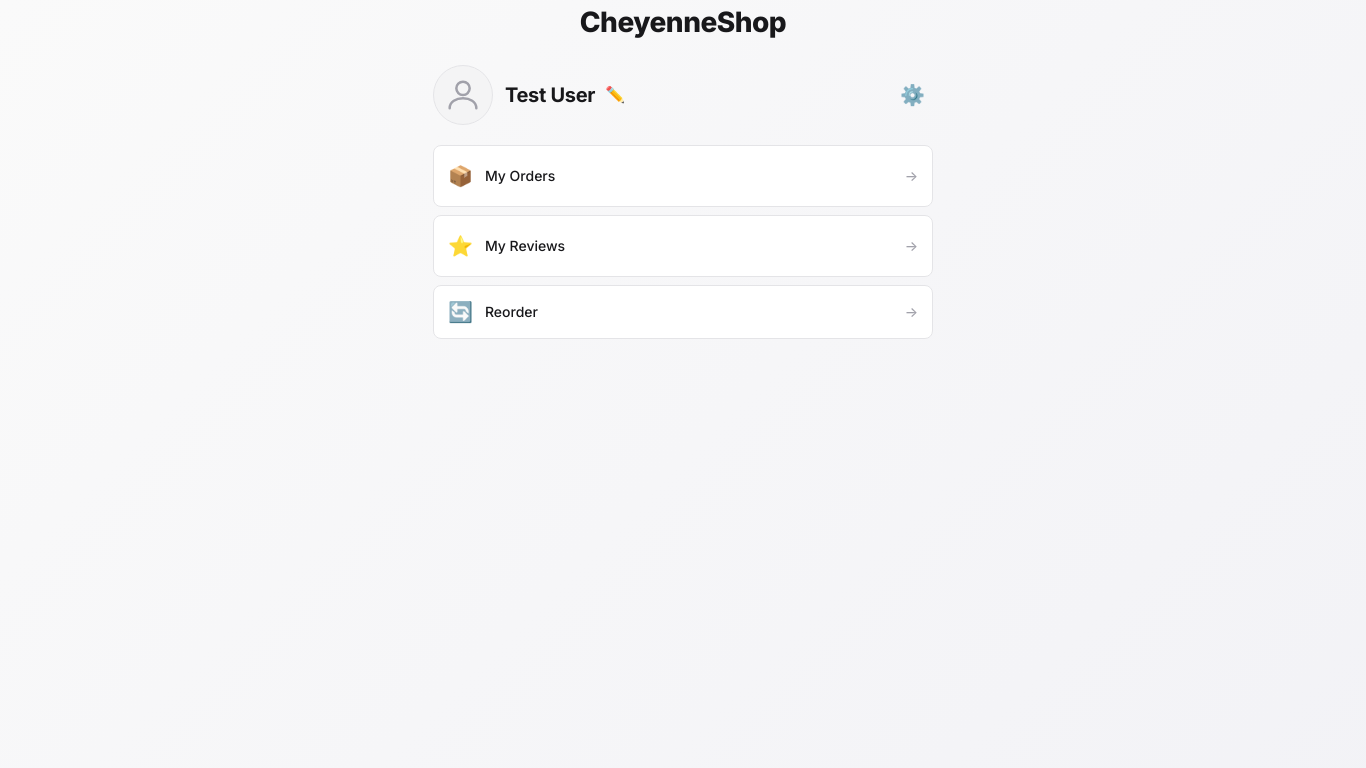
Test: Profile › Edit Modal › should close modal when cancel clicked
This screenshot has width=1366, height=768.
Click the button "✏️": (615,95) left=601, top=81, right=629, bottom=108
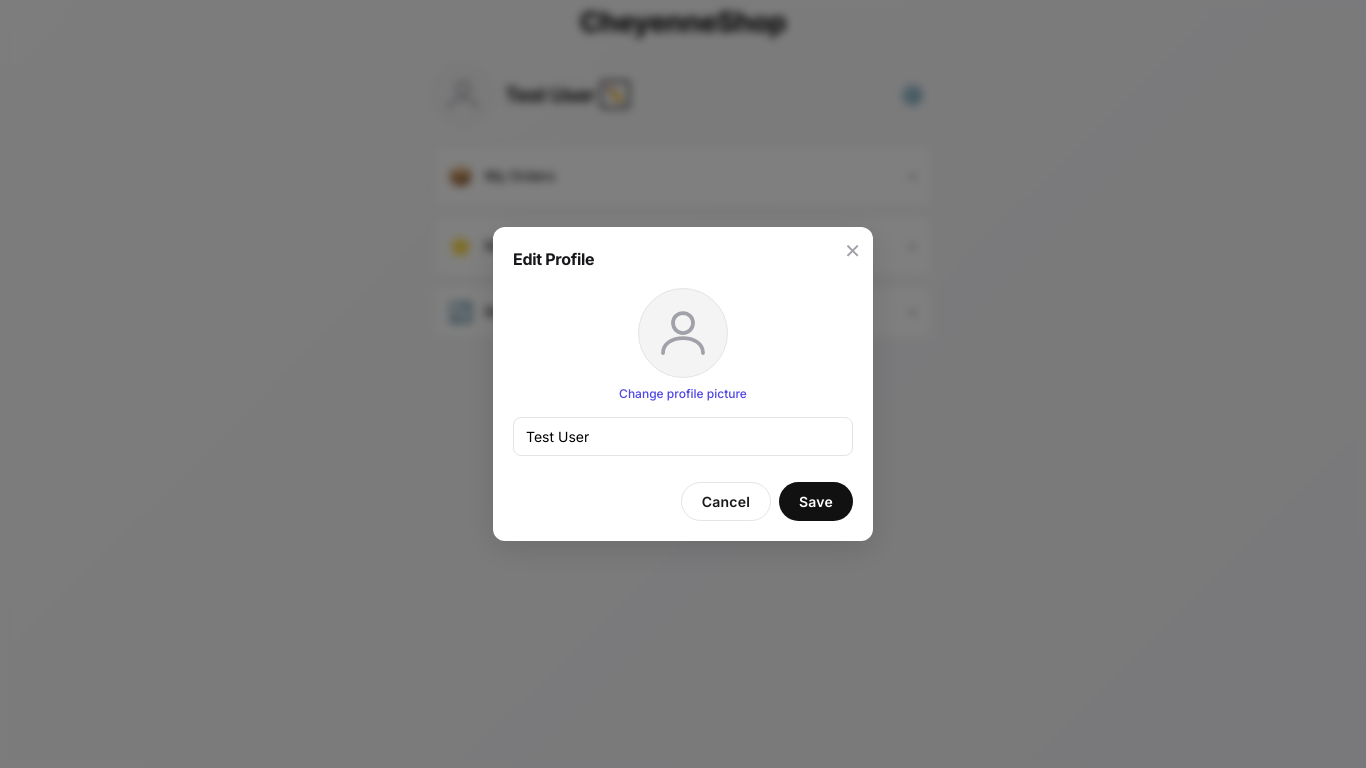
Click the button "Cancel": (726,502) left=681, top=482, right=771, bottom=521
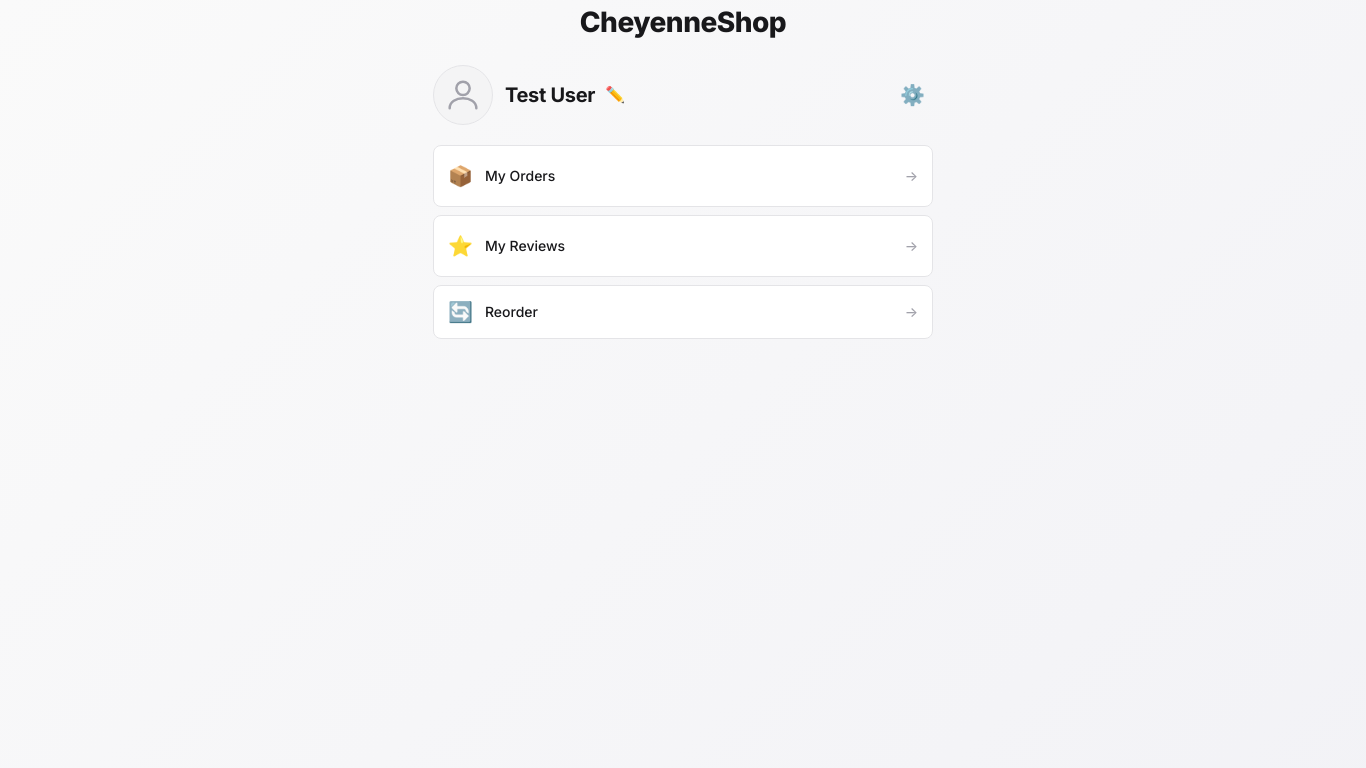
Expected: the heading "Edit Profile" is gone
